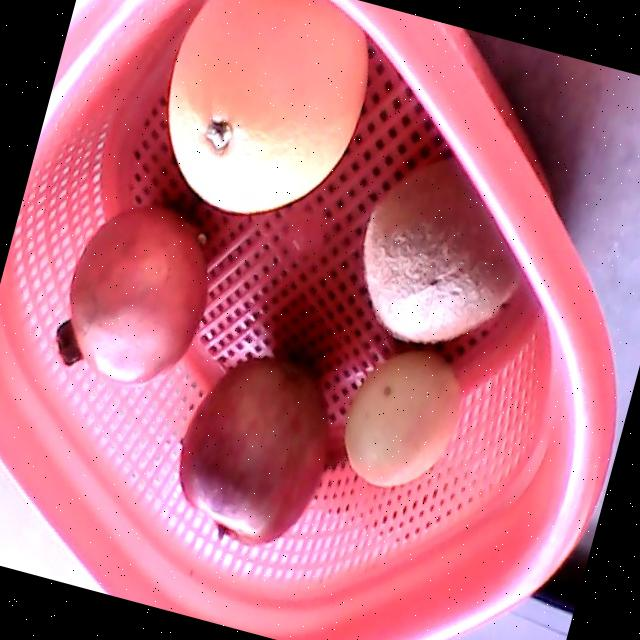apple: (178, 355, 326, 544)
kiwi: (362, 153, 520, 342)
lemon: (342, 349, 458, 487)
orange: (166, 0, 367, 212)
pomegranate: (54, 204, 207, 382)
